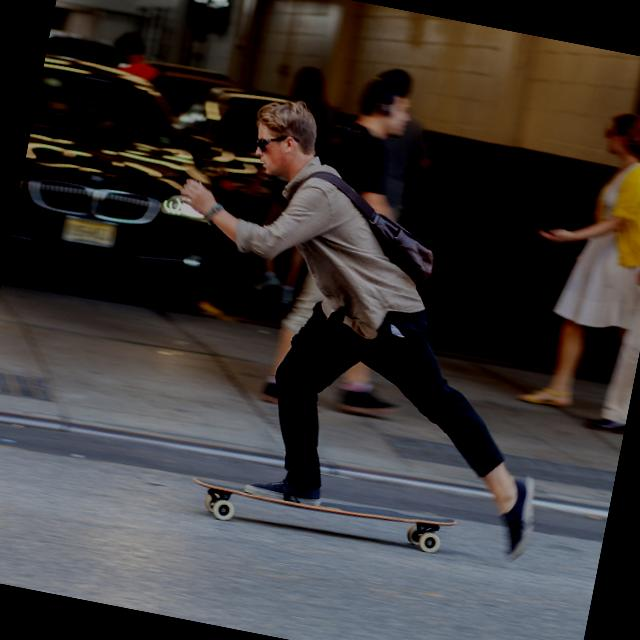Vehicle: (2, 48, 251, 321), (160, 76, 292, 216), (46, 26, 123, 68)
